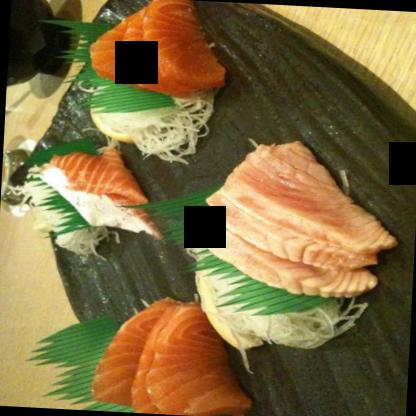salmon: (92, 292, 263, 415), (91, 0, 234, 98)
